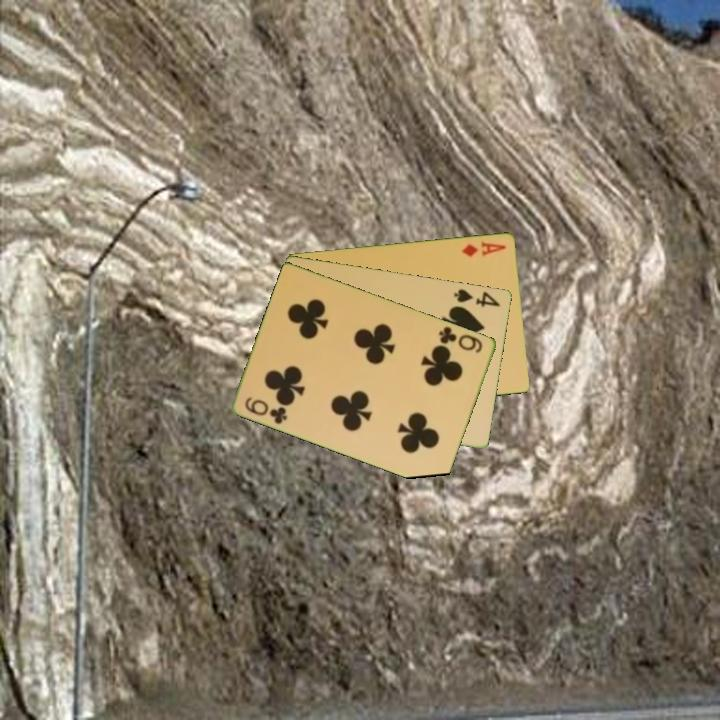4s: (451, 285, 503, 310)
6c: (435, 322, 486, 356), (242, 393, 291, 427)
Ad: (459, 237, 509, 259)
